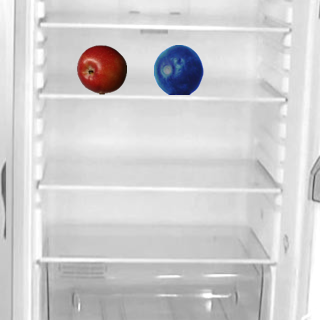Apple Braeburn: (76, 44, 126, 94)
Huckleberry: (153, 44, 203, 94)
